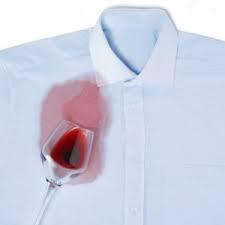oil: (40, 83, 106, 127), (94, 129, 110, 167), (71, 170, 106, 183)
